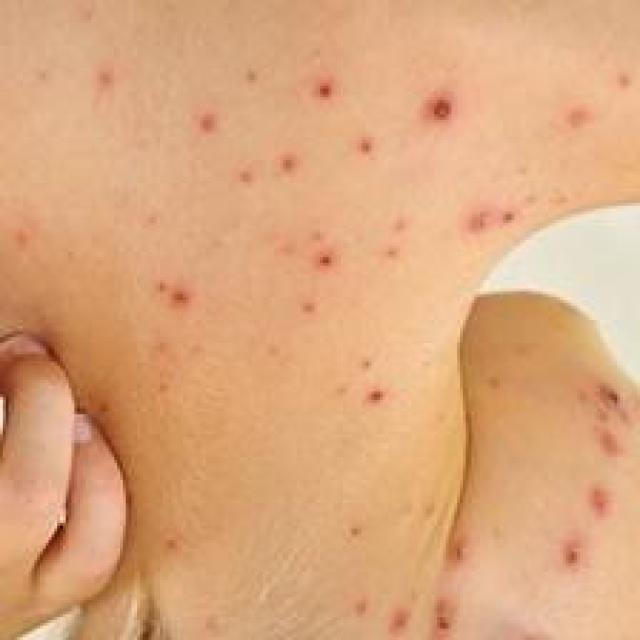others: (40, 20, 631, 640)
